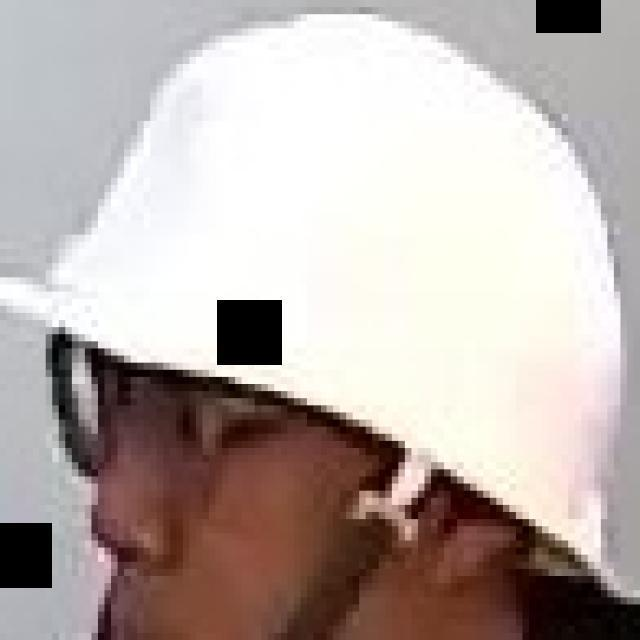white helmet: (5, 14, 637, 541)
